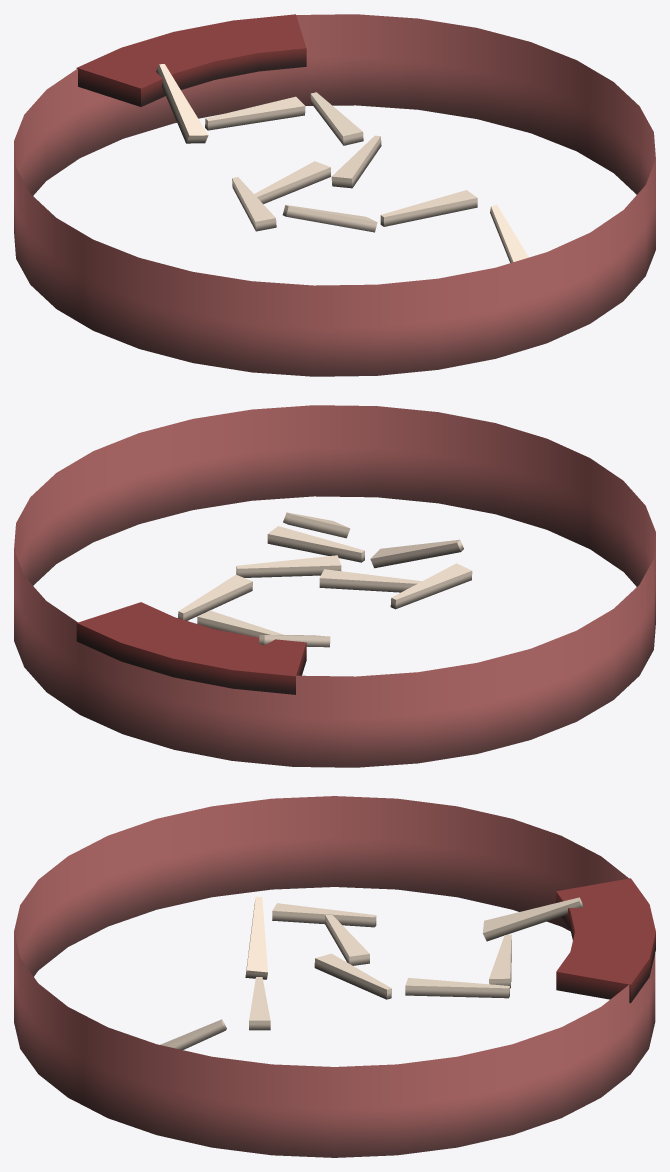
Rendered from Chunk03.glb.
3 renders of one model, top to bottom at view 1: azimuth 30°, elevation 25°; view 2: azimuth 150°, elevation 25°; view 3: azimuth 270°, elevation 25°, orthographic.
Visible parts, largest first — view 1: Chunk03; view 2: Chunk03; view 3: Chunk03.
Boxes of the visible parts, bbox=[...] form: Chunk03: bbox=[14, 14, 655, 376]; Chunk03: bbox=[14, 405, 655, 767]; Chunk03: bbox=[14, 796, 655, 1157].
Size of what is drawn, in the model's own units: 69.14 by 11.91 by 69.22.
Materials: 1 (1 with a texture image).
